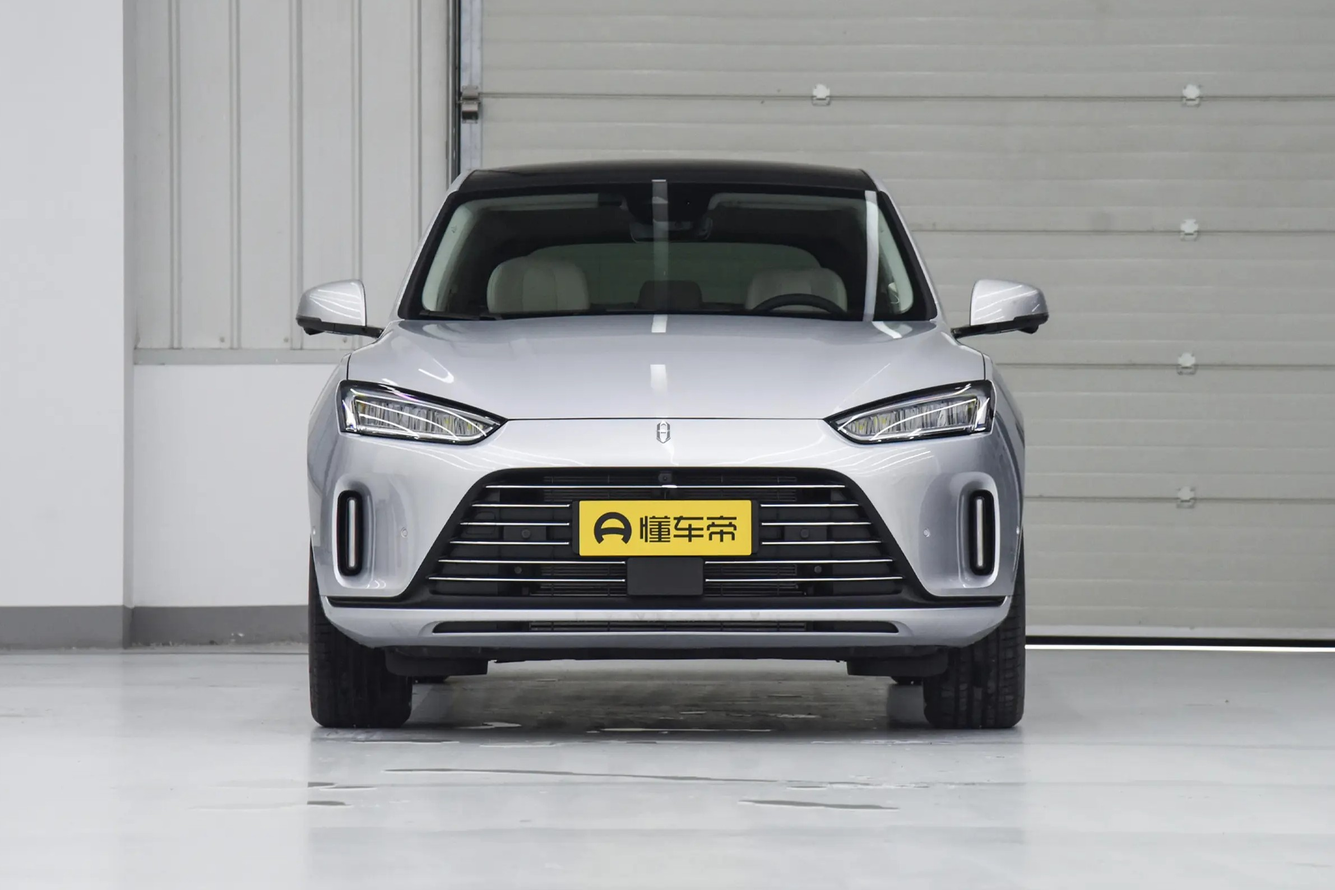AITO: (656, 420, 670, 443)
